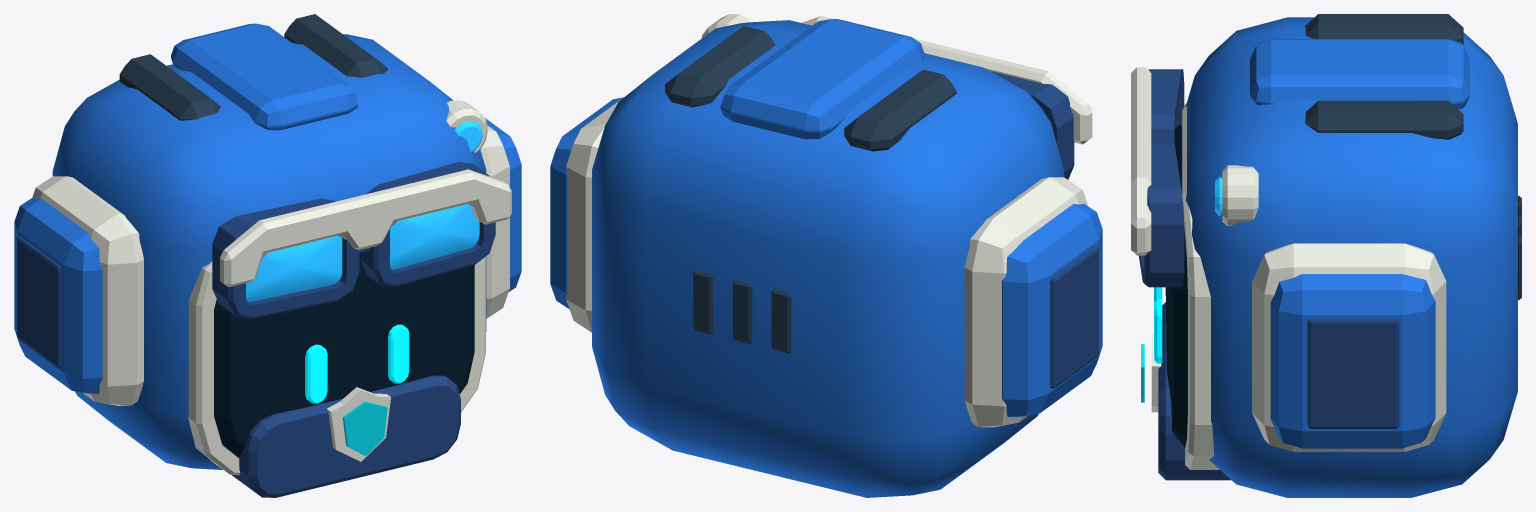
The model's file is copilot_security_v01.glb.
3 renders of one model, left to right at view 1: azimuth 30°, elevation 25°; view 2: azimuth 150°, elevation 25°; view 3: azimuth 270°, elevation 25°, orthographic. The views are drawn at different scales.
Visible parts, largest first — view 1: security_model; view 2: security_model; view 3: security_model.
Boxes of the visible parts, box(x1,y1,x2,y2) form: security_model: box(14, 14, 521, 497); security_model: box(550, 14, 1102, 497); security_model: box(1131, 14, 1521, 497).
Bounding box in the file's own units: 2.69 × 1.99 × 1.83.
2 materials, 2 textured.
